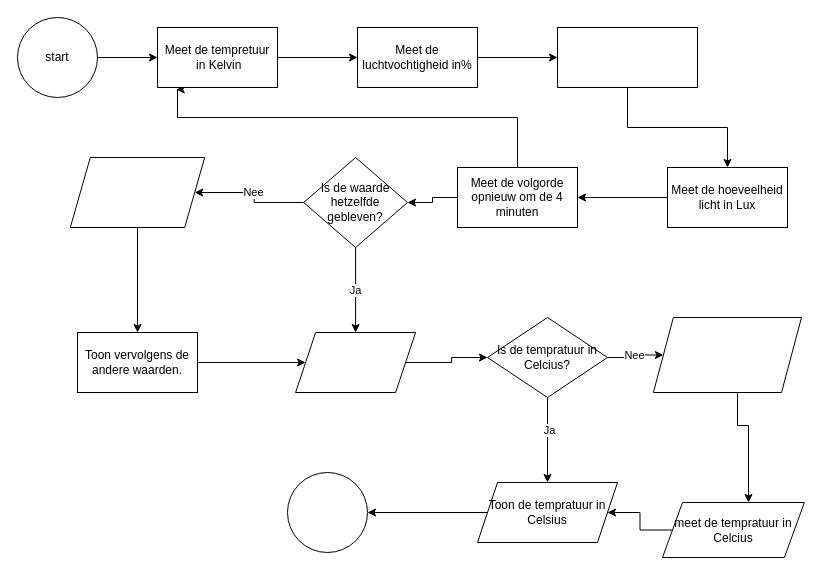
This 822x575 diagram has some shape labels left out. The box of each missing label's shape, as (x1, y1, x2, y2) in pixels:
Bereken de tempretuur in Kelvin om in Celcius: (652, 316, 802, 392)
Einde: (286, 472, 368, 552)
Meet de luchtdruk in Mbar: (556, 26, 698, 88)
Toon de waarde als eerste knipperend aan: (69, 156, 205, 228)
Toon de waarde op volgorde die jij wilt: (295, 332, 416, 392)
